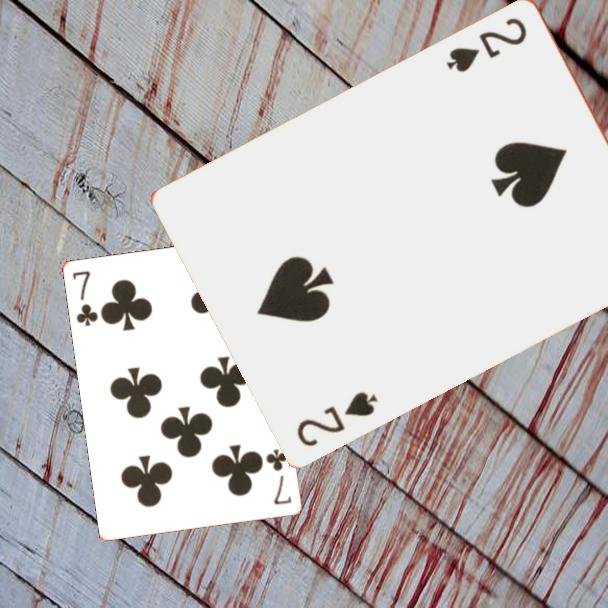c07: (263, 445, 295, 508), (69, 268, 101, 329)
s02: (442, 13, 530, 75), (293, 387, 381, 449)
